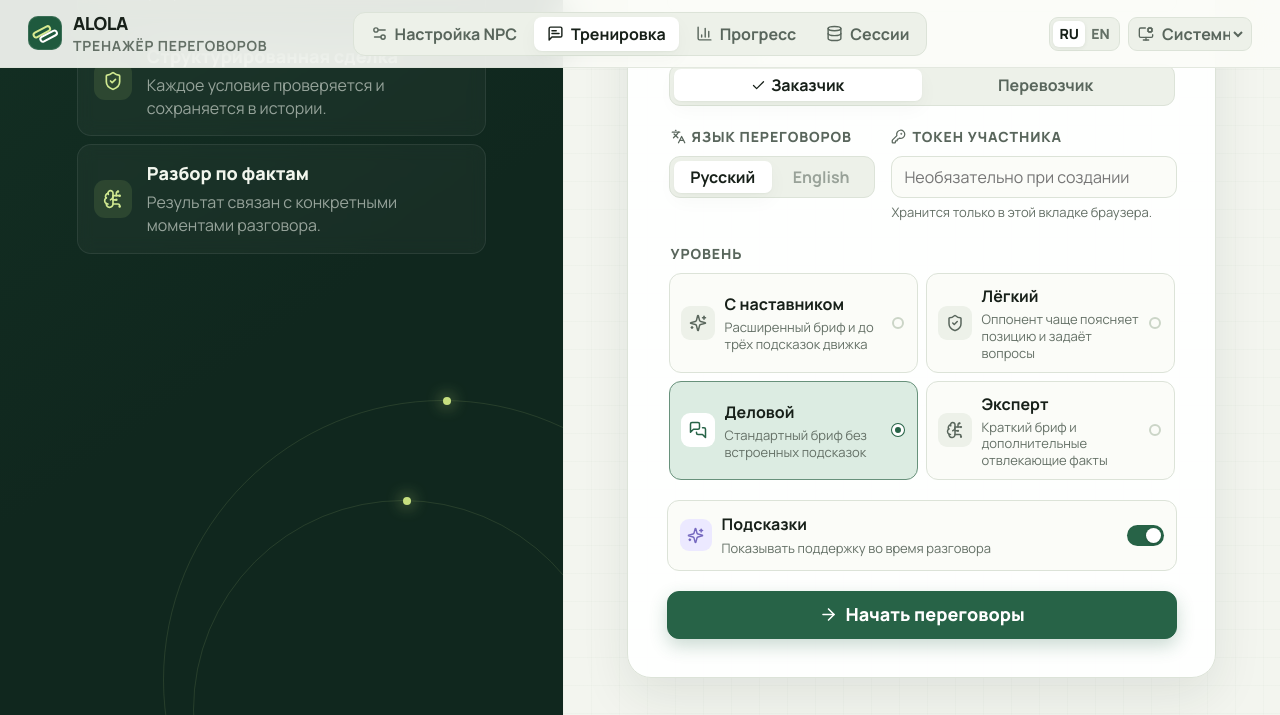
it: new session confirmation › asks for confirmation before leaving an unfinished session
(page scrolled)
Click the button "Начать переговоры".
click(922, 615)  # box [667,591,1177,639]
(page scrolled)
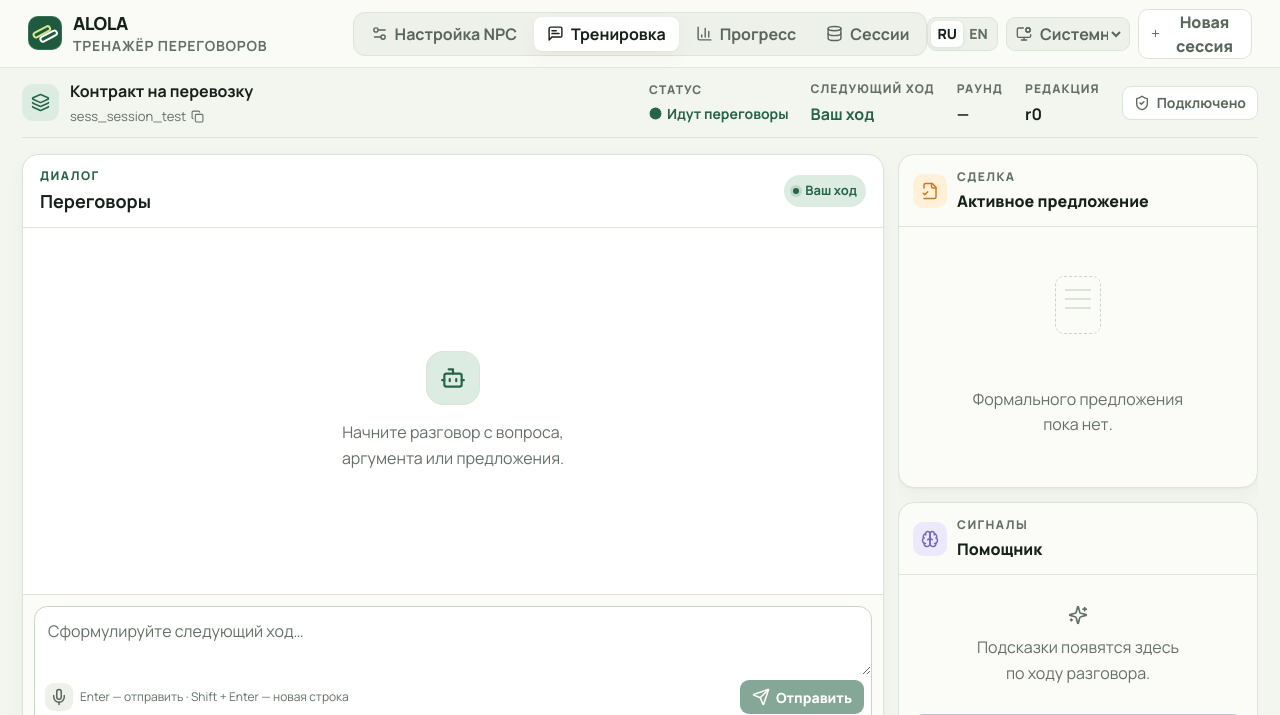
Expected: the text "sess_session_test" is shown, [70,106,186,126]
Click the button "Новая сессия".
click(1195, 34)  # box [1138,8,1252,58]
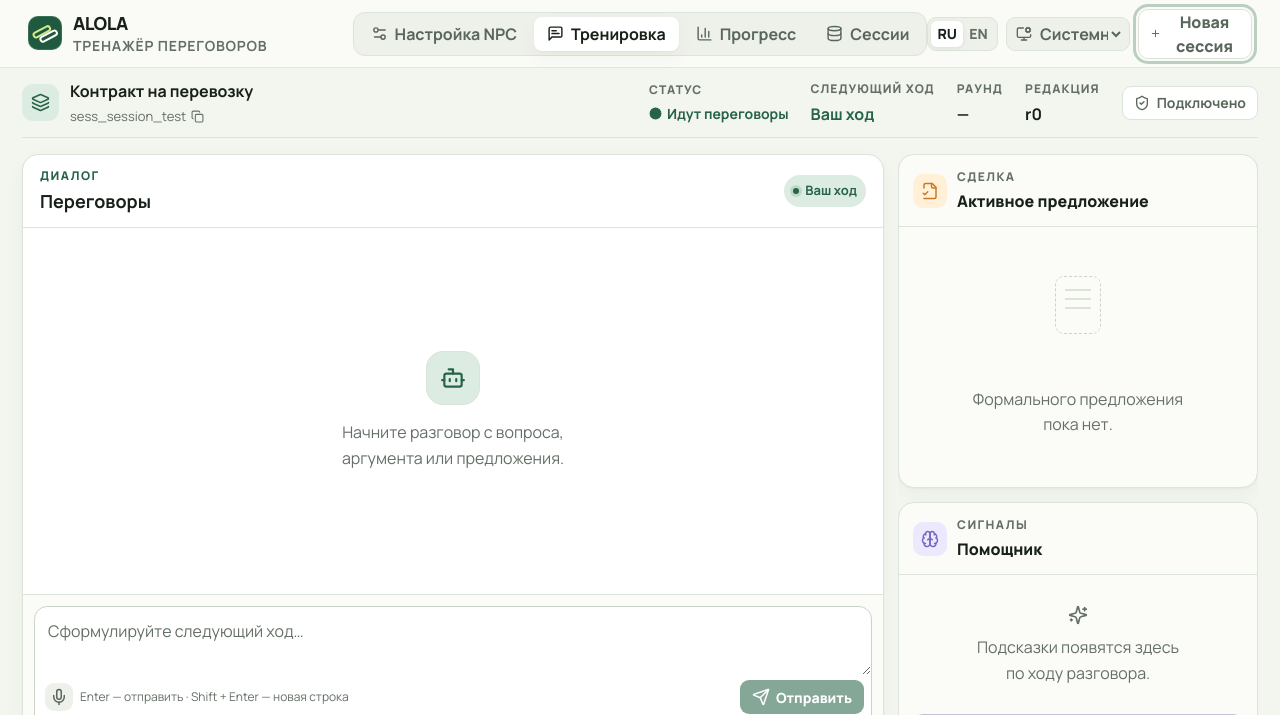
Expected: the text "sess_session_test" is shown, [70,106,186,126]
Click the button "Новая сессия".
click(1195, 34)  # box [1138,8,1252,58]
(page scrolled)
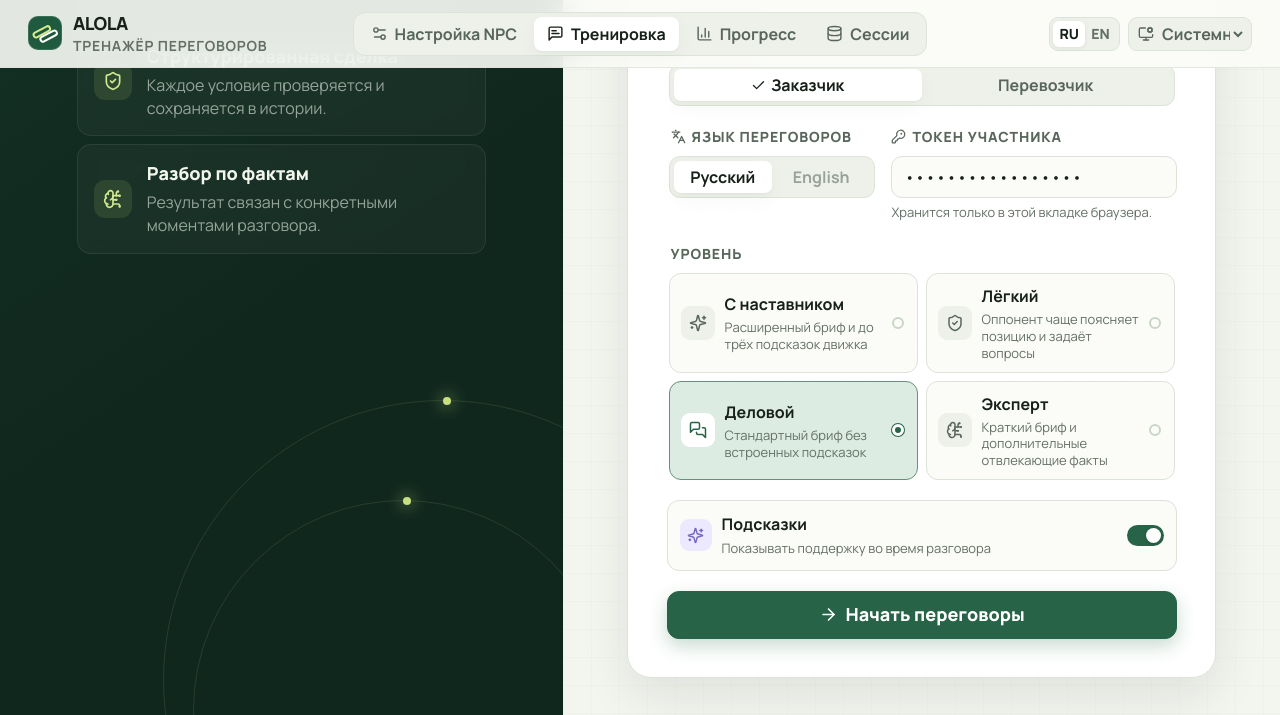
Expected: the button "Начать переговоры" is shown, [667,591,1177,639]
